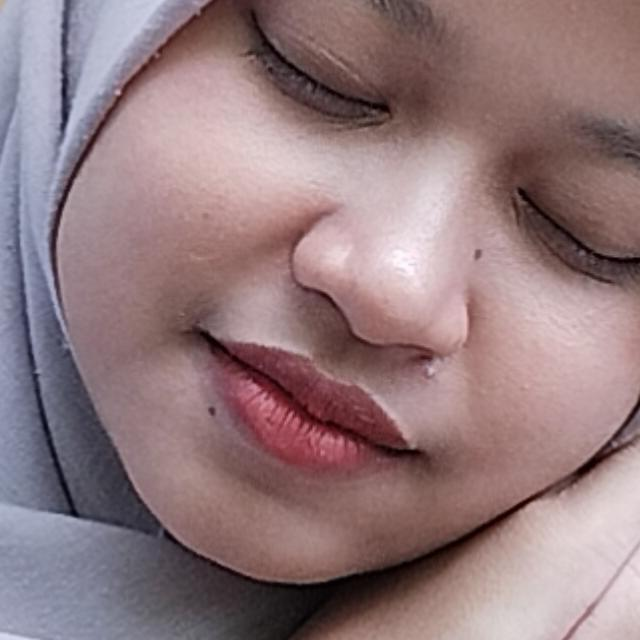tidur: (16, 168, 640, 640)
